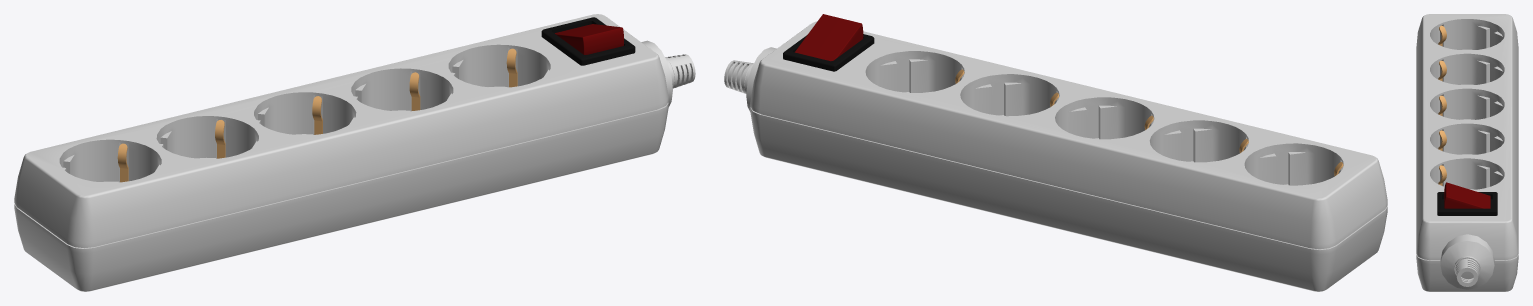
Rendered from verteiler.fbx.
3 renders of one model, left to right at view 1: azimuth 30°, elevation 25°; view 2: azimuth 150°, elevation 25°; view 3: azimuth 270°, elevation 25°, orthographic. The views are drawn at different scales.
Visible parts, largest first — view 1: connector strip, switch; view 2: connector strip, switch; view 3: connector strip, switch.
Boxes of the visible parts, bbox=[...] form: connector strip: bbox=[14, 14, 695, 291]; switch: bbox=[555, 24, 623, 54]; connector strip: bbox=[724, 21, 1387, 291]; switch: bbox=[794, 14, 863, 61]; connector strip: bbox=[1416, 14, 1518, 291]; switch: bbox=[1444, 182, 1490, 208].
Bounding box in the file's own units: 159 × 27.95 × 29.58.
